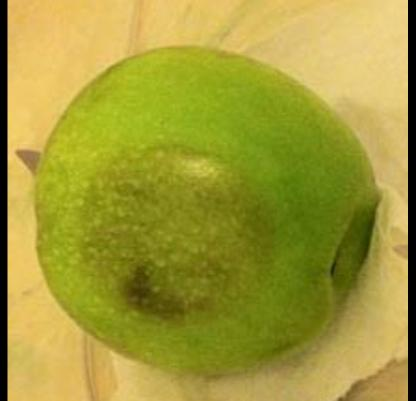defect: (74, 142, 284, 321)
